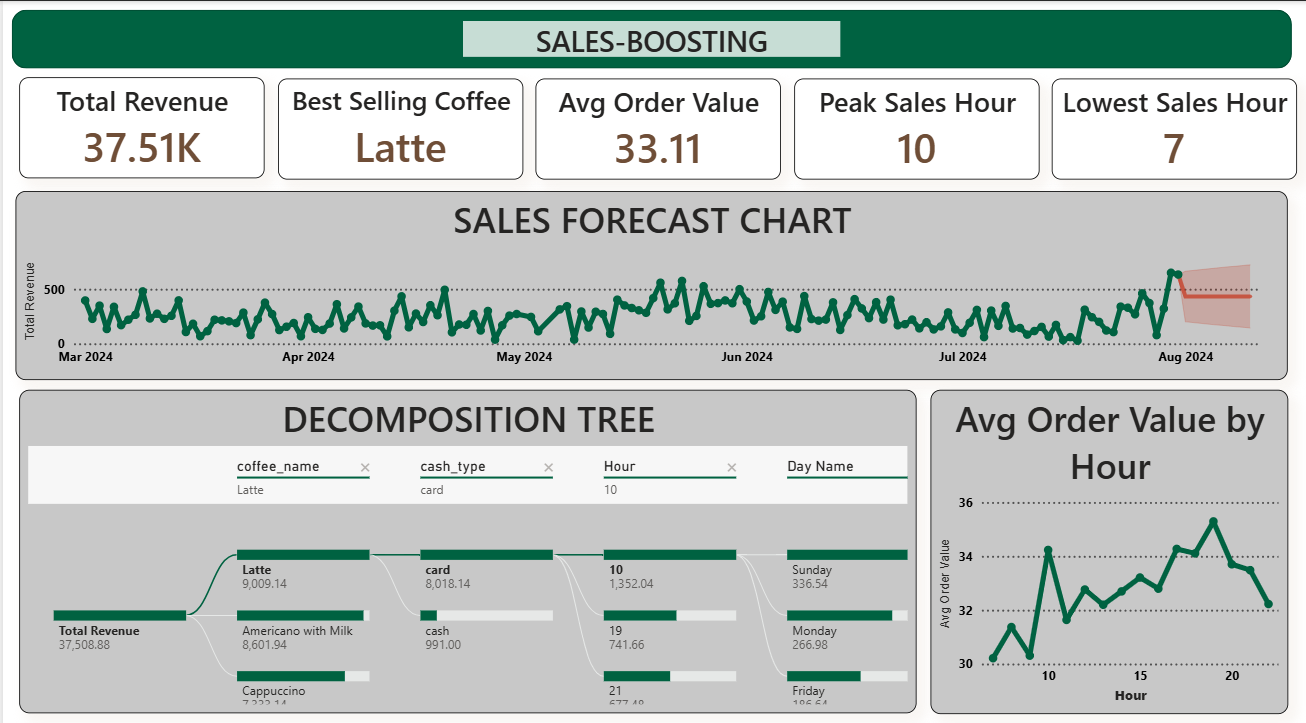

This screenshot's page, from the dashboard's own definition file:
{"tool":"powerbi","page":{"name":"SALES-BOOSTING","canvas":[1280,720],"ordinal":3},"visuals":[{"type":"card","title":"Total Revenue","fields":{"Values":["DateTable.Total Revenue"]},"box":[16,74.4,240.5,99.4],"z":0},{"type":"card","title":"Best Selling Coffee","fields":{"Values":["DateTable.Top Coffee"]},"box":[269.3,75.6,240.5,99.4],"z":1000},{"type":"card","title":"Avg Order Value","fields":{"Values":["DateTable.Avg Order Value"]},"box":[522.7,75.6,240.5,99.4],"z":2000},{"type":"card","title":"Peak Sales Hour","fields":{"Values":["DateTable.Peak Hour"]},"box":[776.1,75.6,240.5,99.4],"z":3000},{"type":"shape","box":[8.6,8.6,1256.4,57.7],"z":4000},{"type":"card","title":"Lowest Sales Hour","fields":{"Values":["DateTable.Lowest Hour"]},"box":[1029.5,75.6,240.5,99.4],"z":5000},{"type":"lineChart","title":"SALES FORECAST CHART","fields":{"Y":["DateTable.Total Revenue"],"Category":["index.date"]},"box":[12.3,186.5,1249.1,185.3],"z":6000},{"type":"decompositionTreeVisual","title":"DECOMPOSITION TREE","fields":{"Analyze":["DateTable.Total Revenue"],"ExplainBy":["index.coffee_name","index.cash_type","index.Hour","index.Day Name"]},"box":[16,381.6,881,317.8],"z":7000},{"type":"lineChart","fields":{"Category":["index.Hour"],"Y":["DateTable.Avg Order Value"]},"box":[910,382,351,318],"z":8000},{"type":"textbox","title":"SALES-BOOSTING","box":[451.5,19.6,370.6,35.6],"z":8001}]}

Visuals, with their boxes in screenshot pixels (x1, y1, x2, y2), scaled from the page's 1280x720 canvas onto the 1306x723 screenshot:
"Total Revenue" card: <box>16,75,262,175</box>
"Best Selling Coffee" card: <box>275,76,520,176</box>
"Avg Order Value" card: <box>533,76,779,176</box>
"Peak Sales Hour" card: <box>792,76,1037,176</box>
shape: <box>9,9,1291,67</box>
"Lowest Sales Hour" card: <box>1050,76,1296,176</box>
"SALES FORECAST CHART" lineChart: <box>13,187,1287,373</box>
"DECOMPOSITION TREE" decompositionTreeVisual: <box>16,383,915,702</box>
lineChart - index.Hour x DateTable.Avg Order Value: <box>928,384,1287,703</box>
"SALES-BOOSTING" textbox: <box>461,20,839,55</box>
